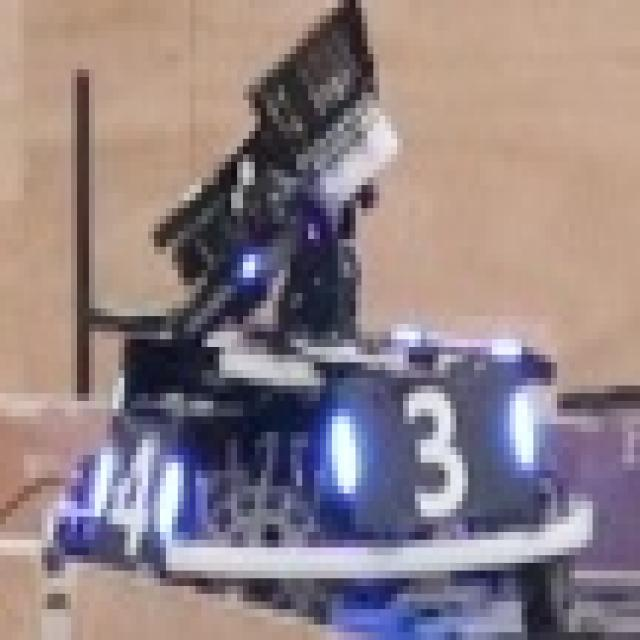B3: (326, 378, 533, 516)
B4: (83, 416, 184, 570)
